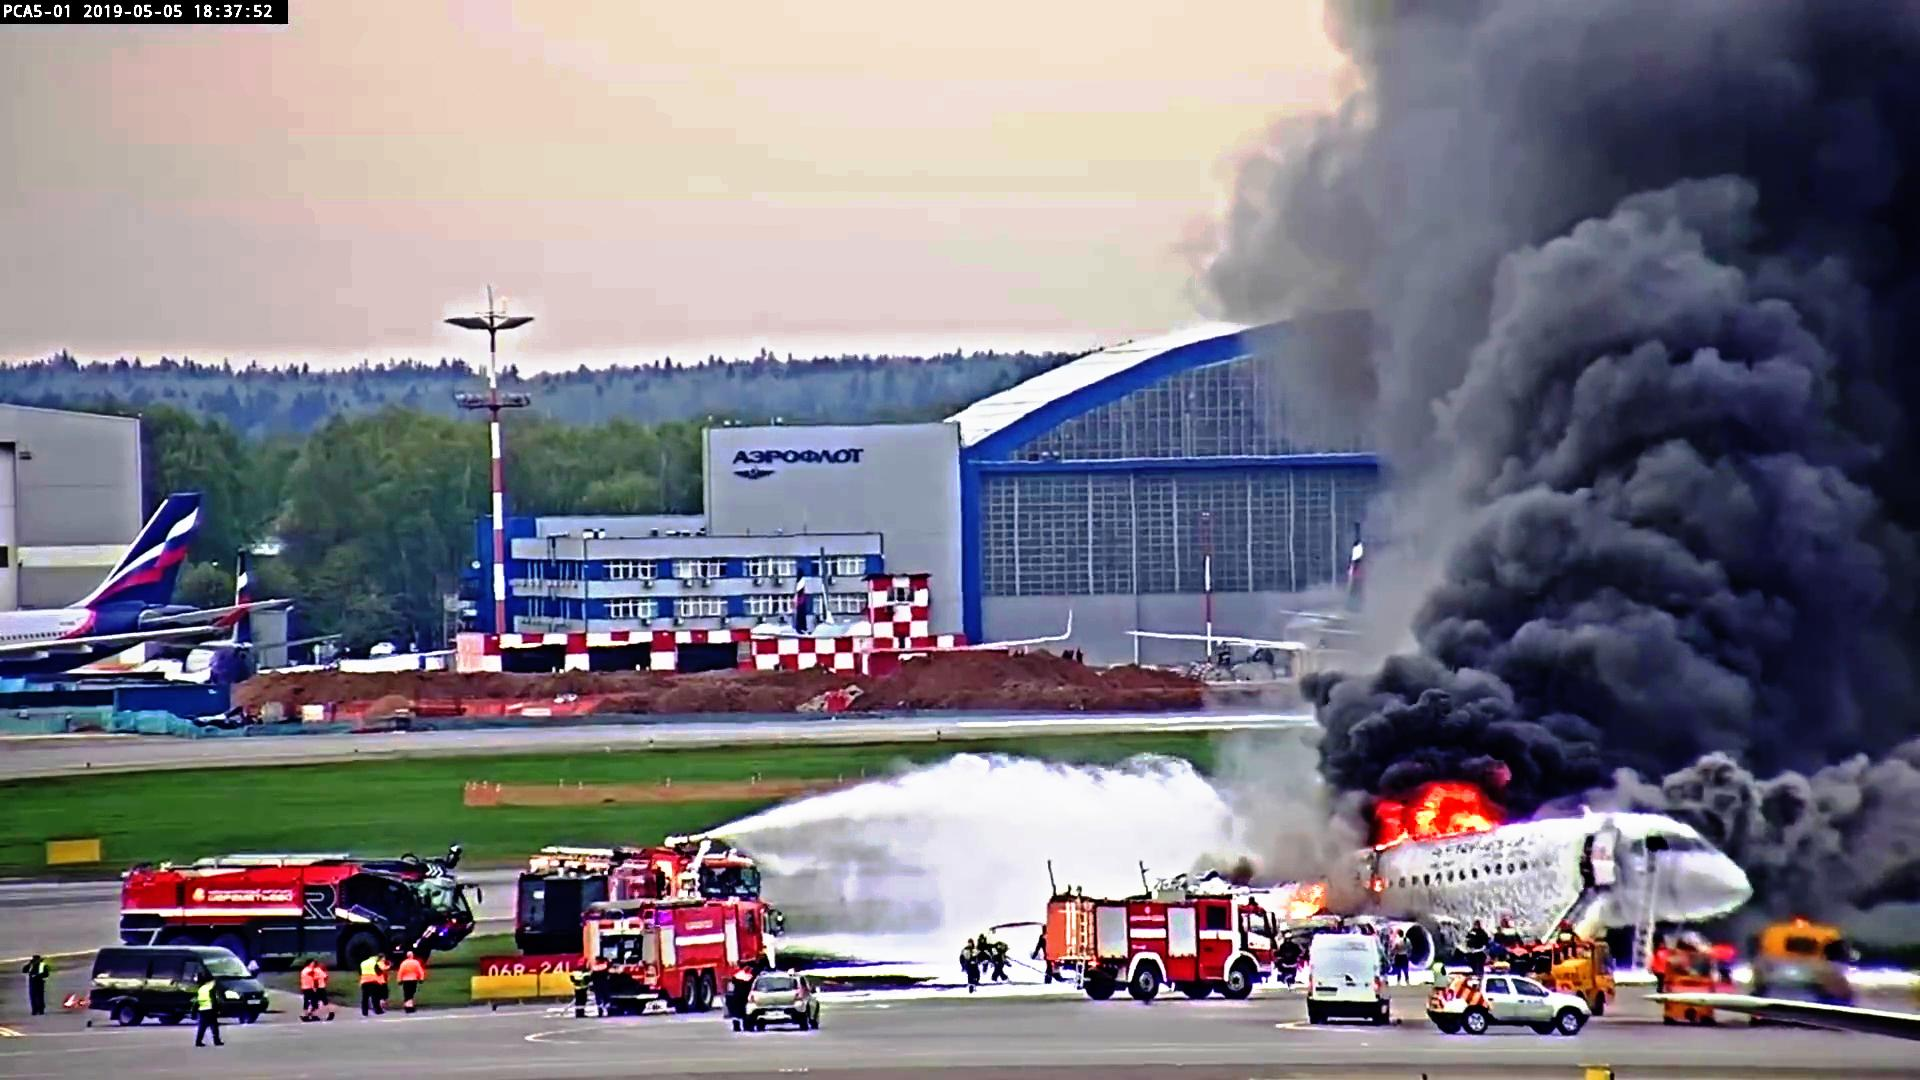fire: (1348, 785, 1465, 853)
smoke: (1348, 161, 1920, 786), (1316, 642, 1598, 781)
